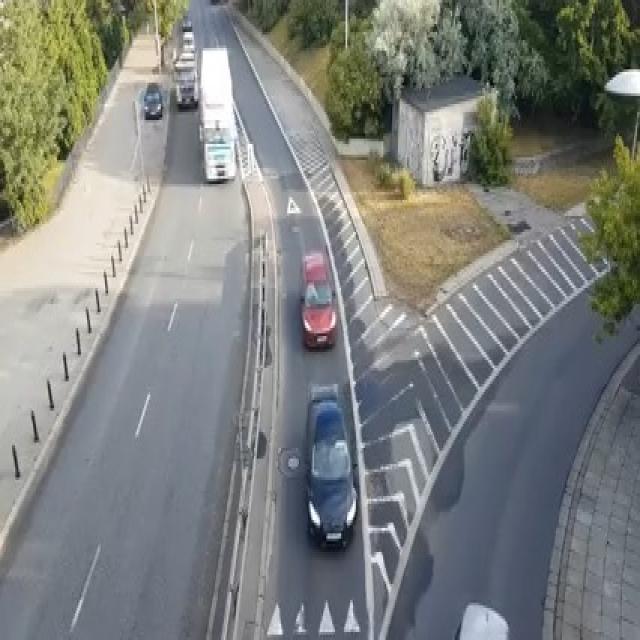bus: (197, 46, 236, 182)
car: (304, 382, 358, 550), (299, 248, 336, 349), (201, 118, 236, 182), (173, 58, 198, 106), (143, 80, 162, 117), (182, 29, 194, 51), (182, 8, 192, 29)
